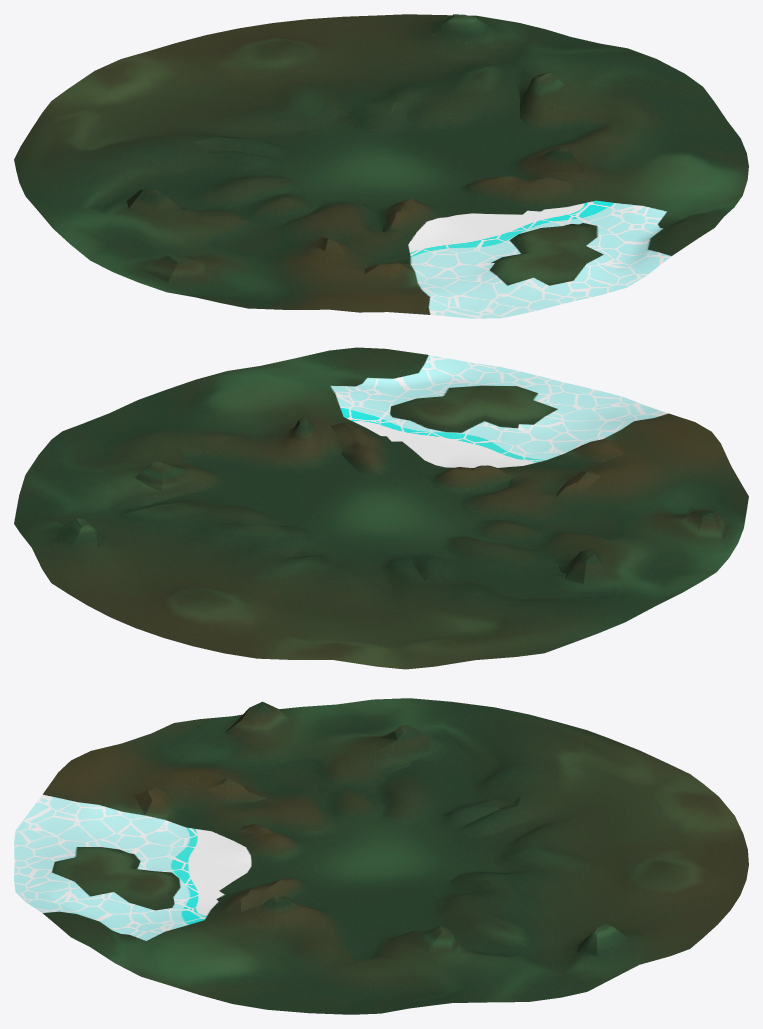
Rendered from landscape.glb.
3 renders of one model, top to bottom at view 1: azimuth 30°, elevation 25°; view 2: azimuth 150°, elevation 25°; view 3: azimuth 270°, elevation 25°, orthographic.
Parts seen in each view (by area): view 1: land-baked; view 2: land-baked; view 3: land-baked.
Part boxes in pixels (x1,y1,x2,y2): land-baked: (14,14,748,318); land-baked: (14,347,748,669); land-baked: (14,698,748,1014).
Bounding box in the file's own units: 580 × 25.96 × 576.
Materials: 2 (2 with a texture image).
